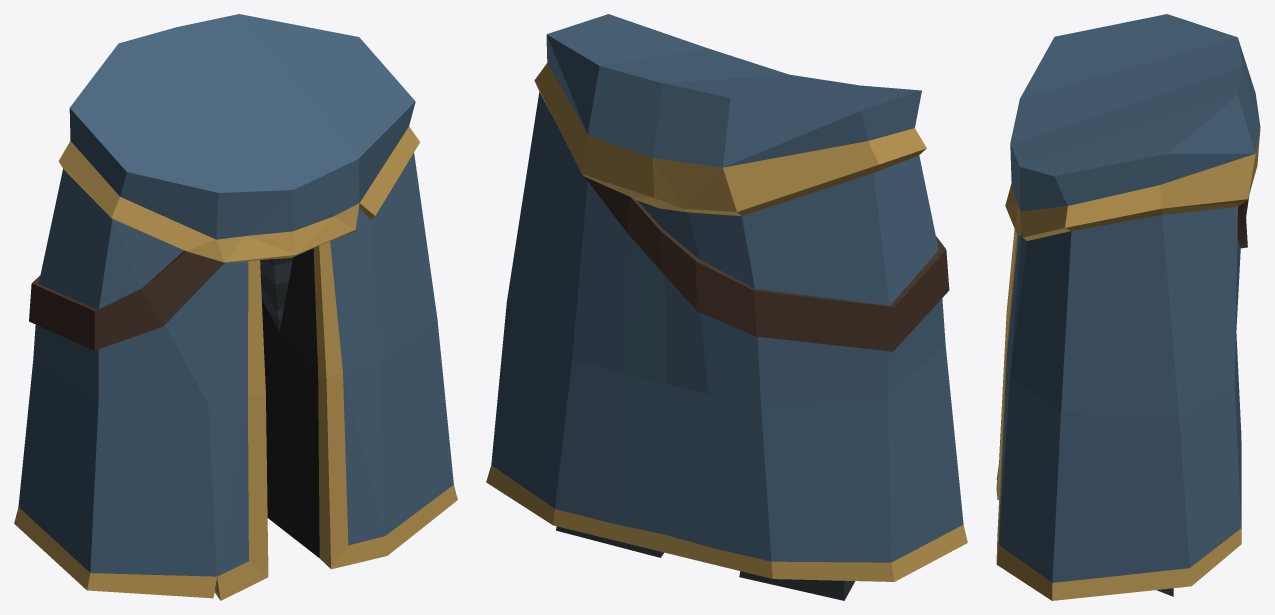
The model's file is Chr_Hips_Female_09_Static.fbx.
3 renders of one model, left to right at view 1: azimuth 30°, elevation 25°; view 2: azimuth 150°, elevation 25°; view 3: azimuth 270°, elevation 25°, orthographic. The views are drawn at different scales.
Parts seen in each view (by area): view 1: Chr_Hips_Female_09_Static; view 2: Chr_Hips_Female_09_Static; view 3: Chr_Hips_Female_09_Static.
Boxes of the visible parts, <box> form: Chr_Hips_Female_09_Static: <box>14,14,457,600</box>; Chr_Hips_Female_09_Static: <box>486,14,967,600</box>; Chr_Hips_Female_09_Static: <box>996,14,1260,600</box>.
Bounding box in the file's own units: 0.4852 × 0.5806 × 0.2971.
